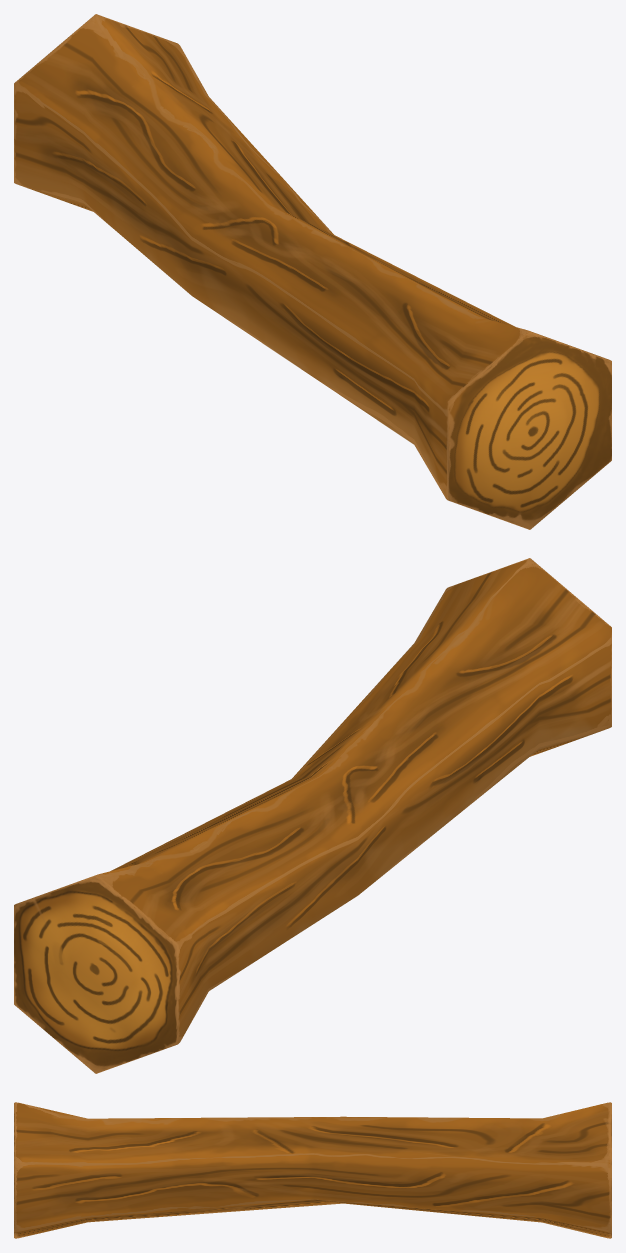
The model's file is wood_log_hand_painted.glb.
3 views of the same model, one above another, from view 1: azimuth 30°, elevation 25°; view 2: azimuth 150°, elevation 25°; view 3: azimuth 270°, elevation 25° (orthographic). The views are drawn at different scales.
Visible parts, largest first — view 1: Cylinder; view 2: Cylinder; view 3: Cylinder.
Part boxes in pixels (x1,y1,x2,y2): Cylinder: (14, 14, 611, 529); Cylinder: (14, 558, 611, 1073); Cylinder: (14, 1102, 611, 1238).
Bounding box in the file's own units: 172 × 198 × 787.
1 material, 1 textured.
